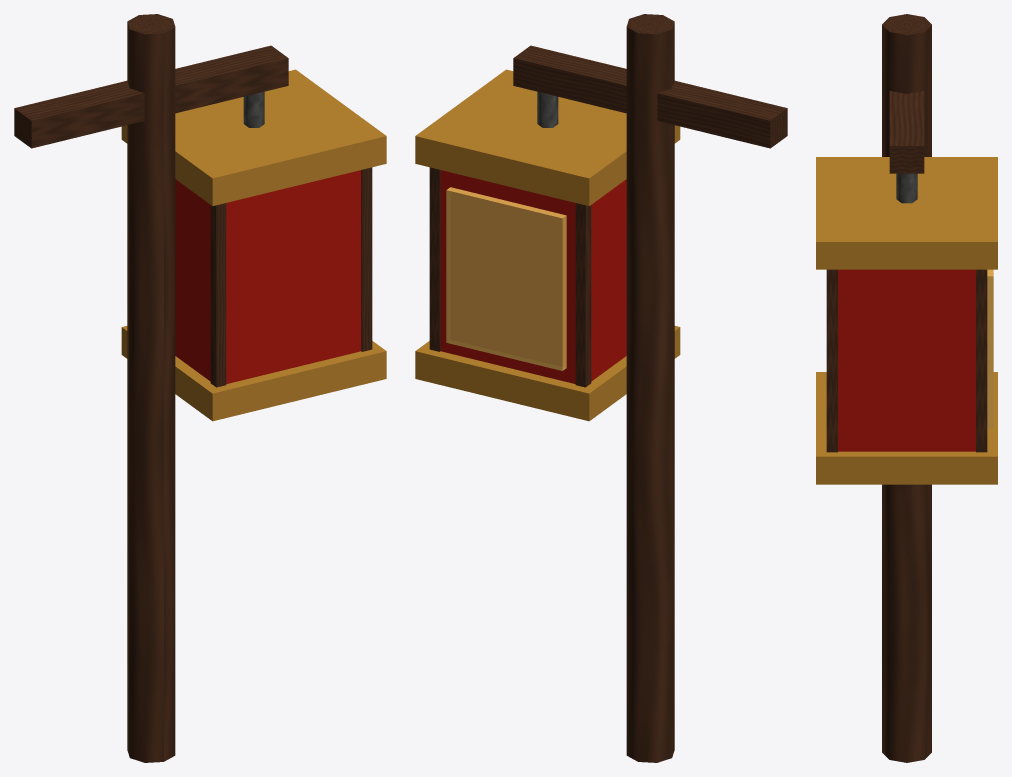
The model's file is lantern_v5.obj.
3 views of the same model, side by side, from view 1: azimuth 30°, elevation 25°; view 2: azimuth 150°, elevation 25°; view 3: azimuth 270°, elevation 25° (orthographic).
Visible parts, largest first — view 1: lantern_v5; view 2: lantern_v5; view 3: lantern_v5.
Boxes of the visible parts, x1,y1,x2,y2 form: lantern_v5: (14, 14, 386, 762); lantern_v5: (415, 14, 787, 762); lantern_v5: (816, 14, 997, 762).
Size of the model in its own units: 1.92 by 4.2 by 0.95.
6 materials, 3 textured.
